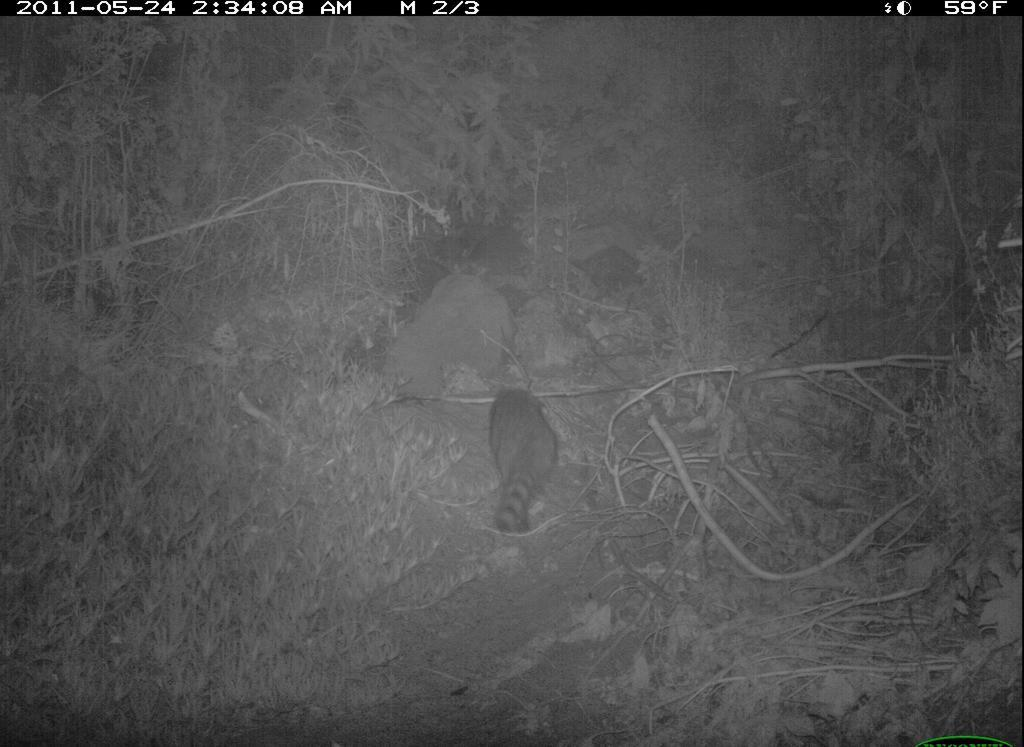raccoon: (452, 372, 588, 545)
